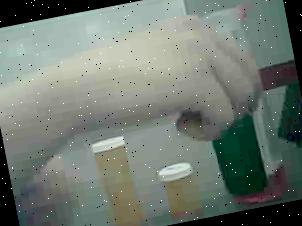Bottle A: (87, 127, 150, 226)
Bottle B: (154, 154, 206, 224)
Bottle C: (210, 110, 266, 198)
hazard: (203, 0, 259, 52)
